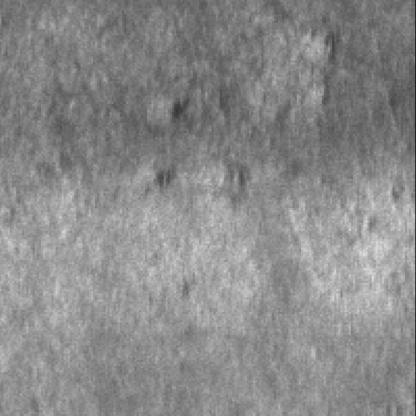rolled-in_scale: (146, 9, 347, 198)
